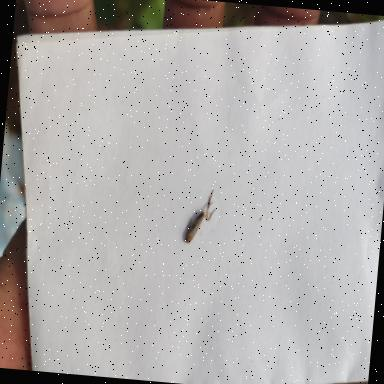pbw: (184, 200, 218, 246)
